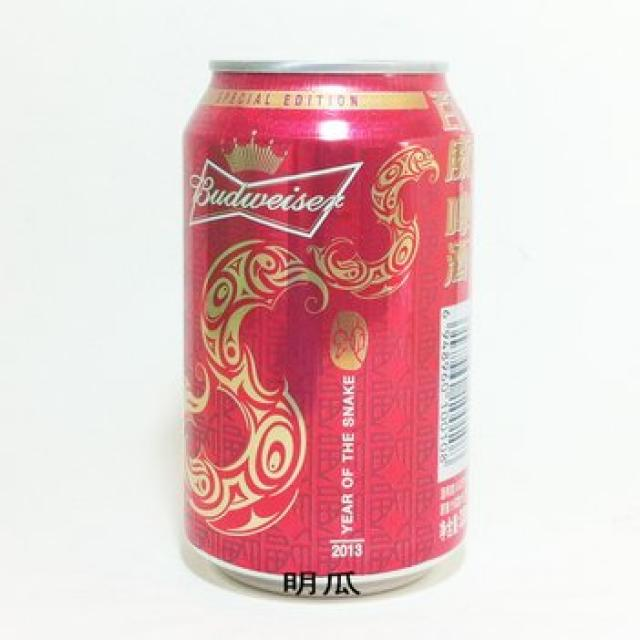-Recyclables - can-: (176, 53, 474, 602)
